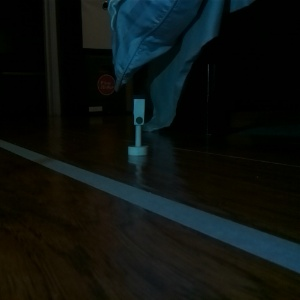traffic light green: (125, 92, 150, 159)
